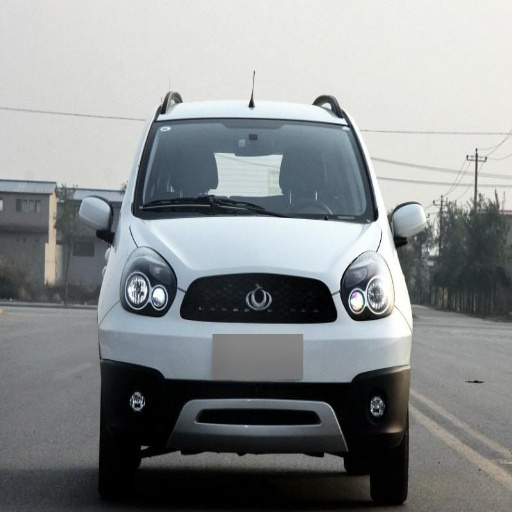front_bumper: (107, 267, 408, 452)
hood: (130, 216, 379, 289)
left_mirror: (392, 203, 427, 242)
